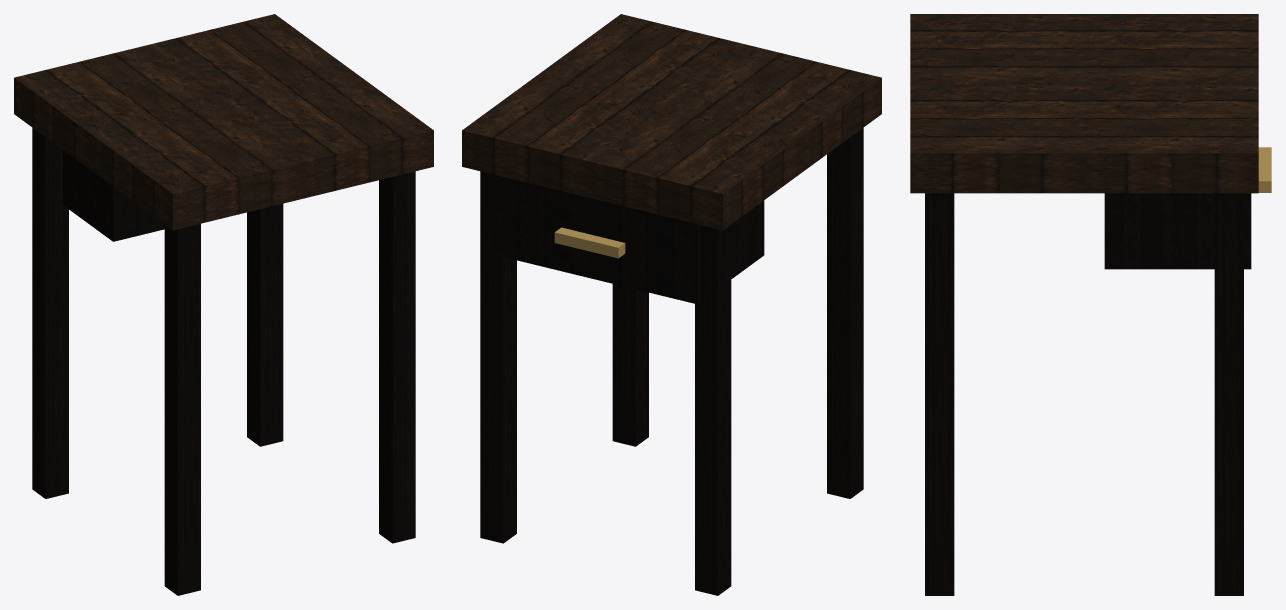
3 renders of one model, left to right at view 1: azimuth 30°, elevation 25°; view 2: azimuth 150°, elevation 25°; view 3: azimuth 270°, elevation 25°, orthographic. The views are drawn at different scales.
Visible parts, largest first — view 1: fixture-A-dresser; view 2: fixture-A-dresser; view 3: fixture-A-dresser.
Boxes of the visible parts, box(x1,y1,x2,y2) form: fixture-A-dresser: box(14, 14, 433, 595); fixture-A-dresser: box(462, 14, 881, 595); fixture-A-dresser: box(910, 14, 1271, 595).
Size of the model in its own units: 0.9 by 1.35 by 0.985.
Materials: 3 (2 with a texture image).
